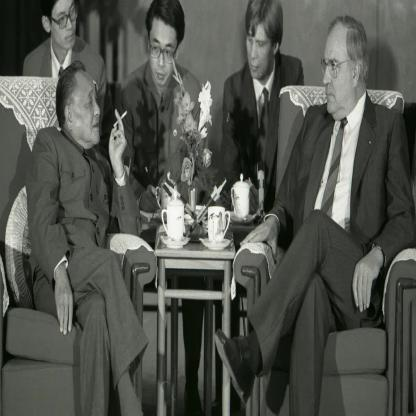cigarette: (120, 108, 128, 122)
person: (258, 13, 412, 413), (25, 60, 148, 416), (115, 0, 212, 199), (220, 0, 306, 210), (20, 0, 98, 73)
